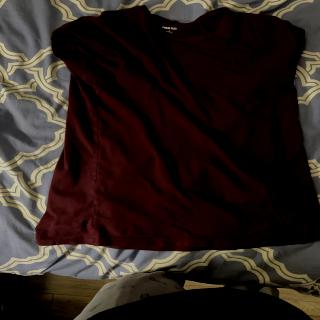Maroon T-Shirt: (33, 4, 320, 248)
